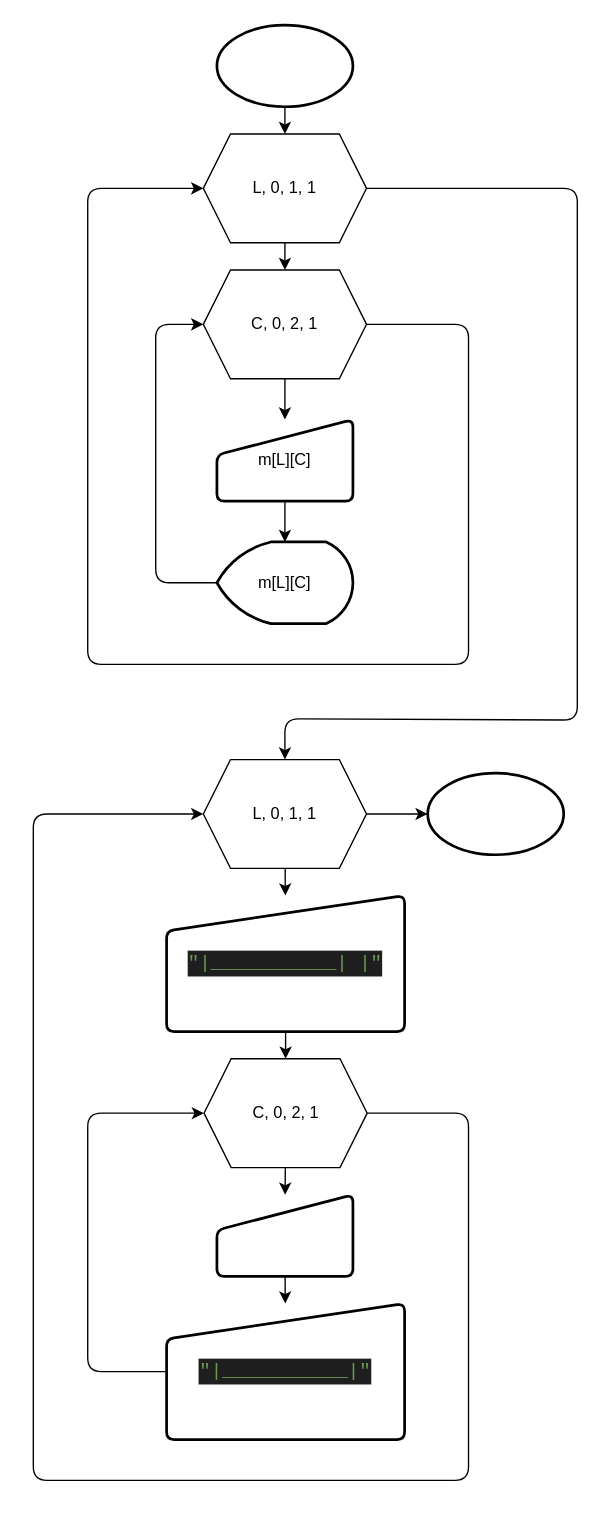
This 612x1515 diagram has some shape labels left out. The shapes that lost their labels are listed below. From the top down, each one's centre as x and y in pixels, then its label:
[284,65]: inicio
[495,813]: fim
[284,1235]: m[L][C] |
